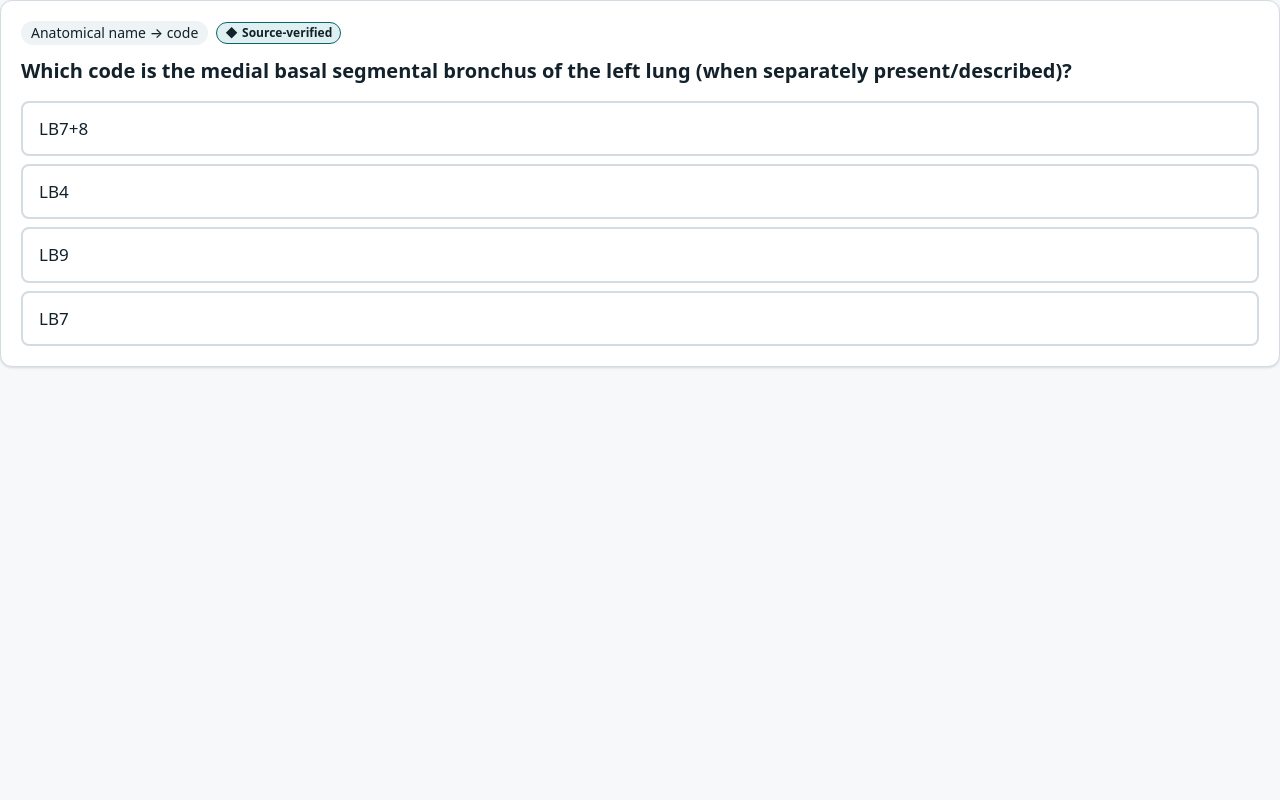
Test: Quiz › treats LB7+8 as correct (variant, not a learner error)
Click the button "LB7+8" at (64, 128), box [21, 101, 1259, 156]
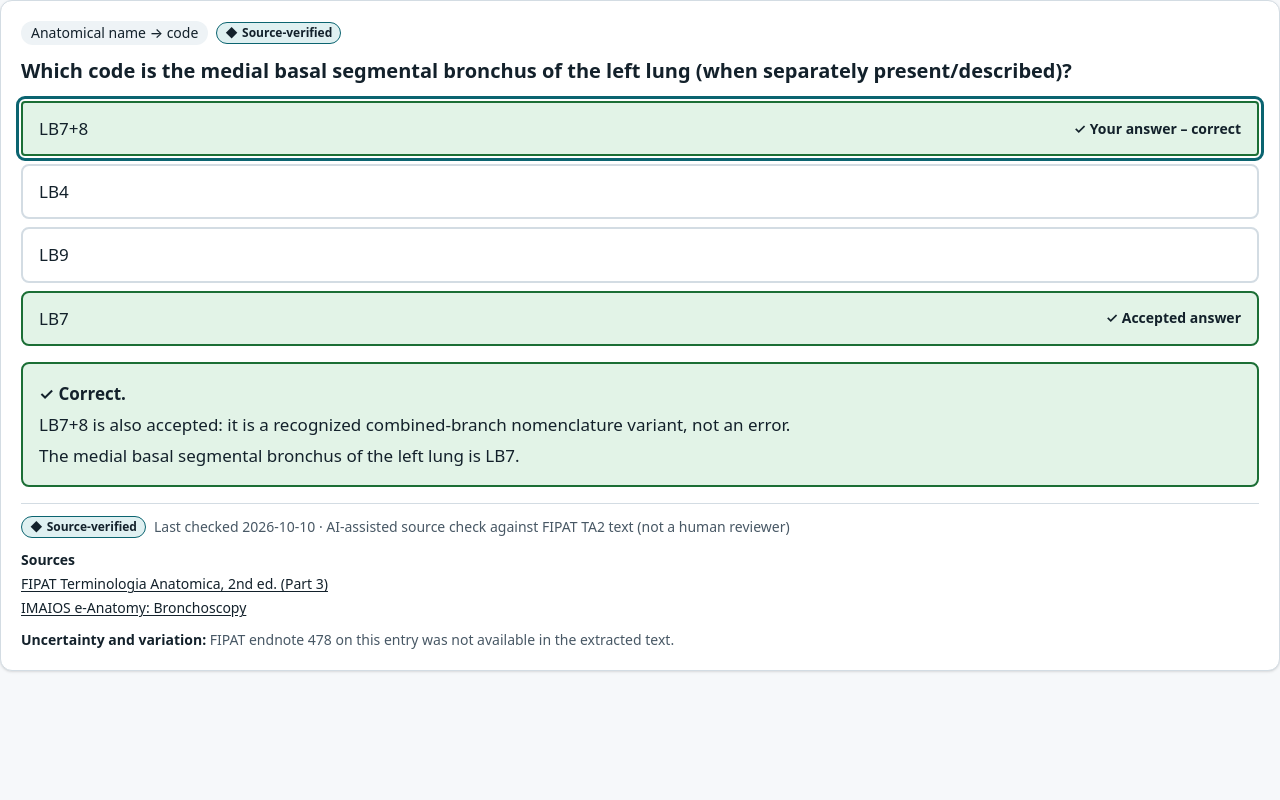
expect the text "✓ Correct." is shown: met, box [39, 382, 126, 405]
expect the text "recognized combined-branch nomenclature variant" is shown: met, box [39, 413, 790, 436]
